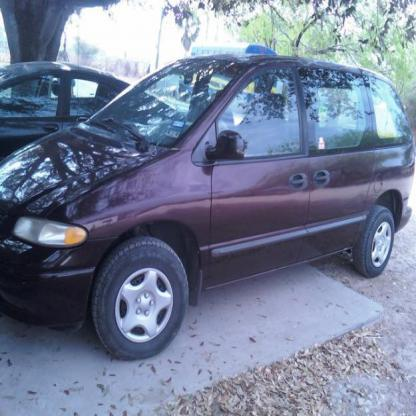Vehicle: (2, 45, 416, 363)
